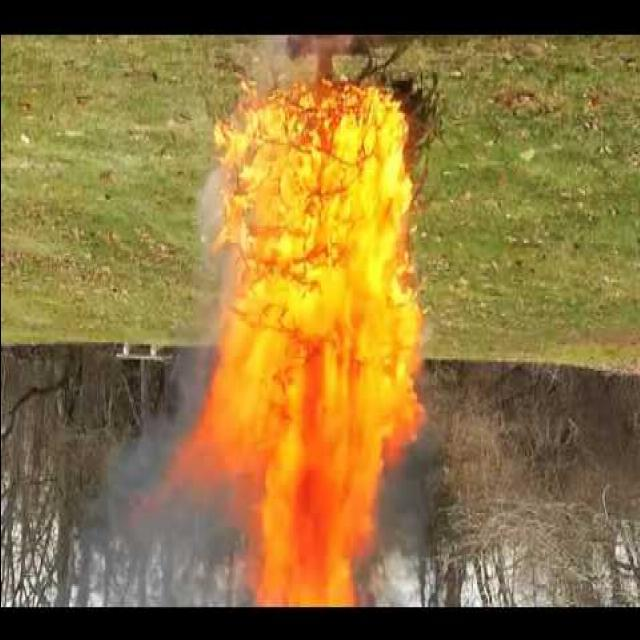Fire: (192, 84, 427, 584)
